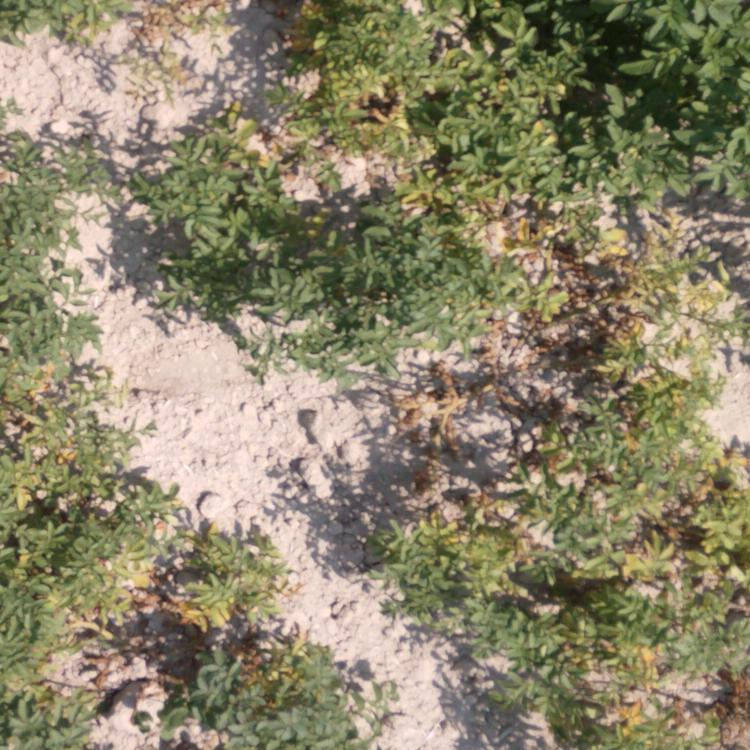healthy: (520, 8, 750, 201), (276, 210, 470, 369), (1, 129, 90, 337), (137, 154, 263, 292), (1, 1, 93, 39)
stressed: (535, 440, 747, 750), (166, 516, 370, 750), (282, 1, 511, 203), (573, 222, 750, 441), (1, 333, 140, 528), (391, 503, 537, 682), (1, 533, 87, 738), (481, 208, 564, 363), (399, 375, 541, 456), (96, 530, 162, 633), (114, 1, 206, 57), (169, 104, 278, 149)
